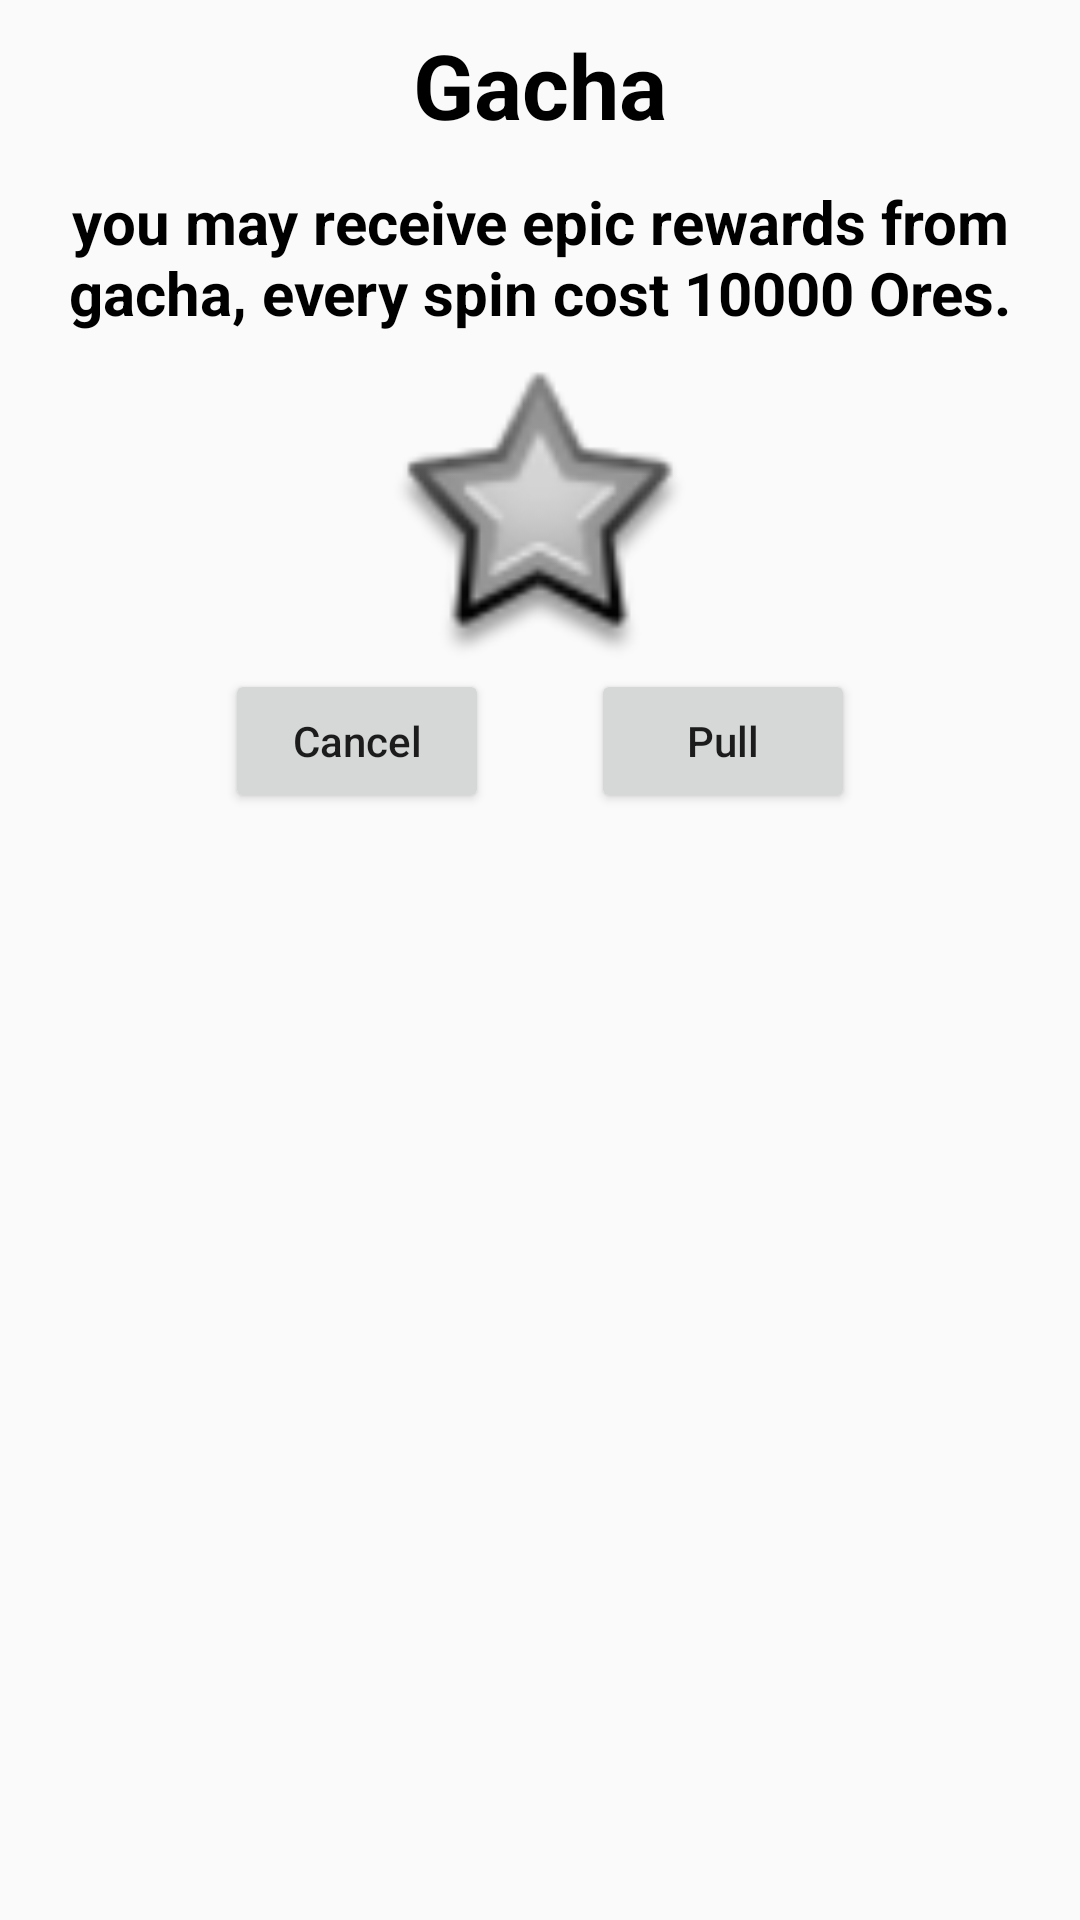

Icon click points for this 1080*1920 phone screenshot, format point (x, y):
star off: point (540, 509)
